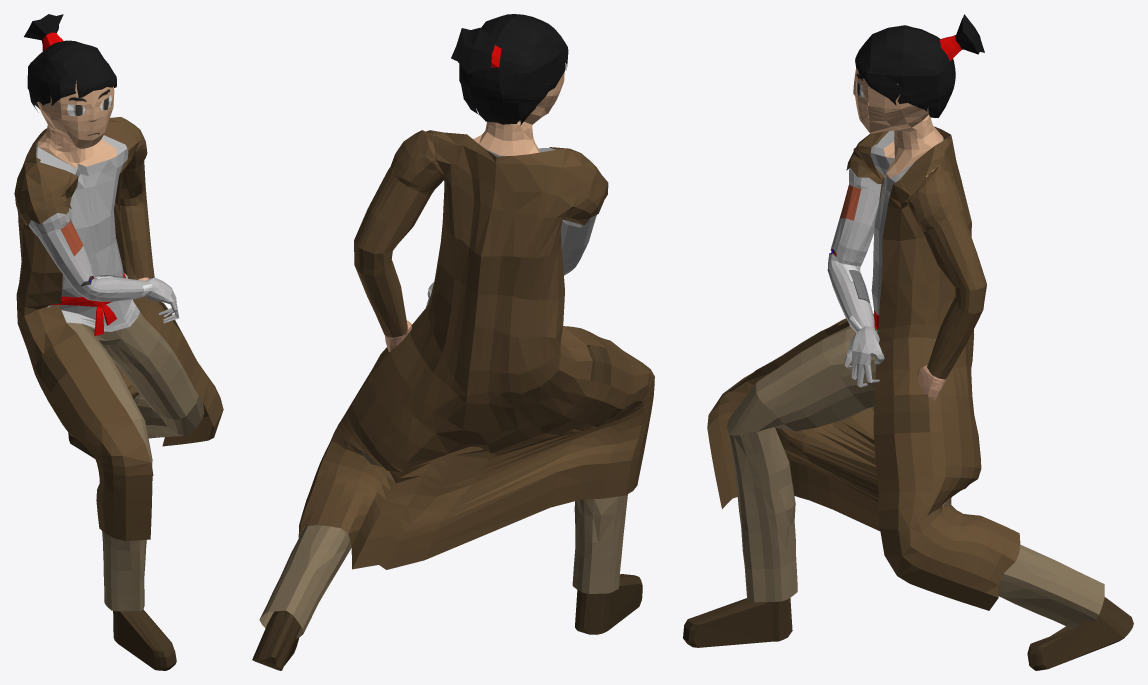
File: One_RL_000004.obj
The picture shows the model from 3 angles, left to right: view 1: azimuth 30°, elevation 25°; view 2: azimuth 150°, elevation 25°; view 3: azimuth 270°, elevation 25°; orthographic projection. The views are drawn at different scales.
Visible parts, largest first — view 1: Hair_Cube.004; view 2: Hair_Cube.004; view 3: Hair_Cube.004.
Part boxes in pixels (<box>): Hair_Cube.004: <box>14,14,223,670</box>; Hair_Cube.004: <box>252,14,654,670</box>; Hair_Cube.004: <box>683,14,1133,670</box>.
Size of the model in its own units: 1.37 by 3.51 by 2.28.
